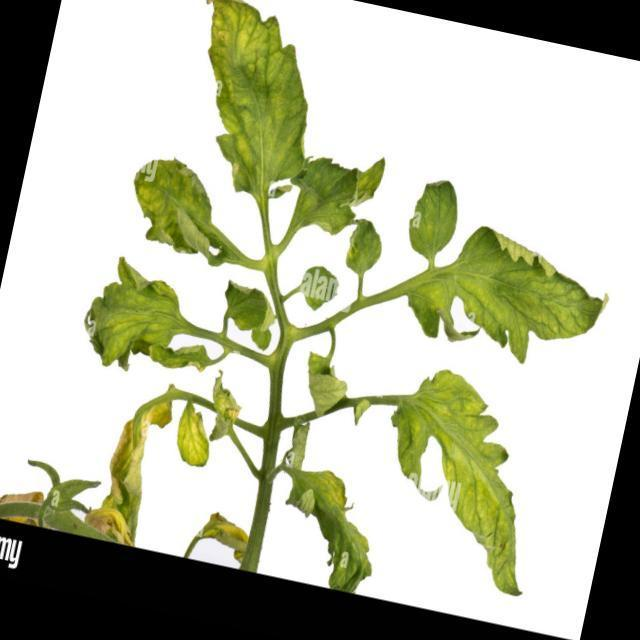Mosaic Virus: (356, 352, 570, 598), (163, 0, 332, 197), (444, 215, 620, 368), (168, 392, 224, 474)
